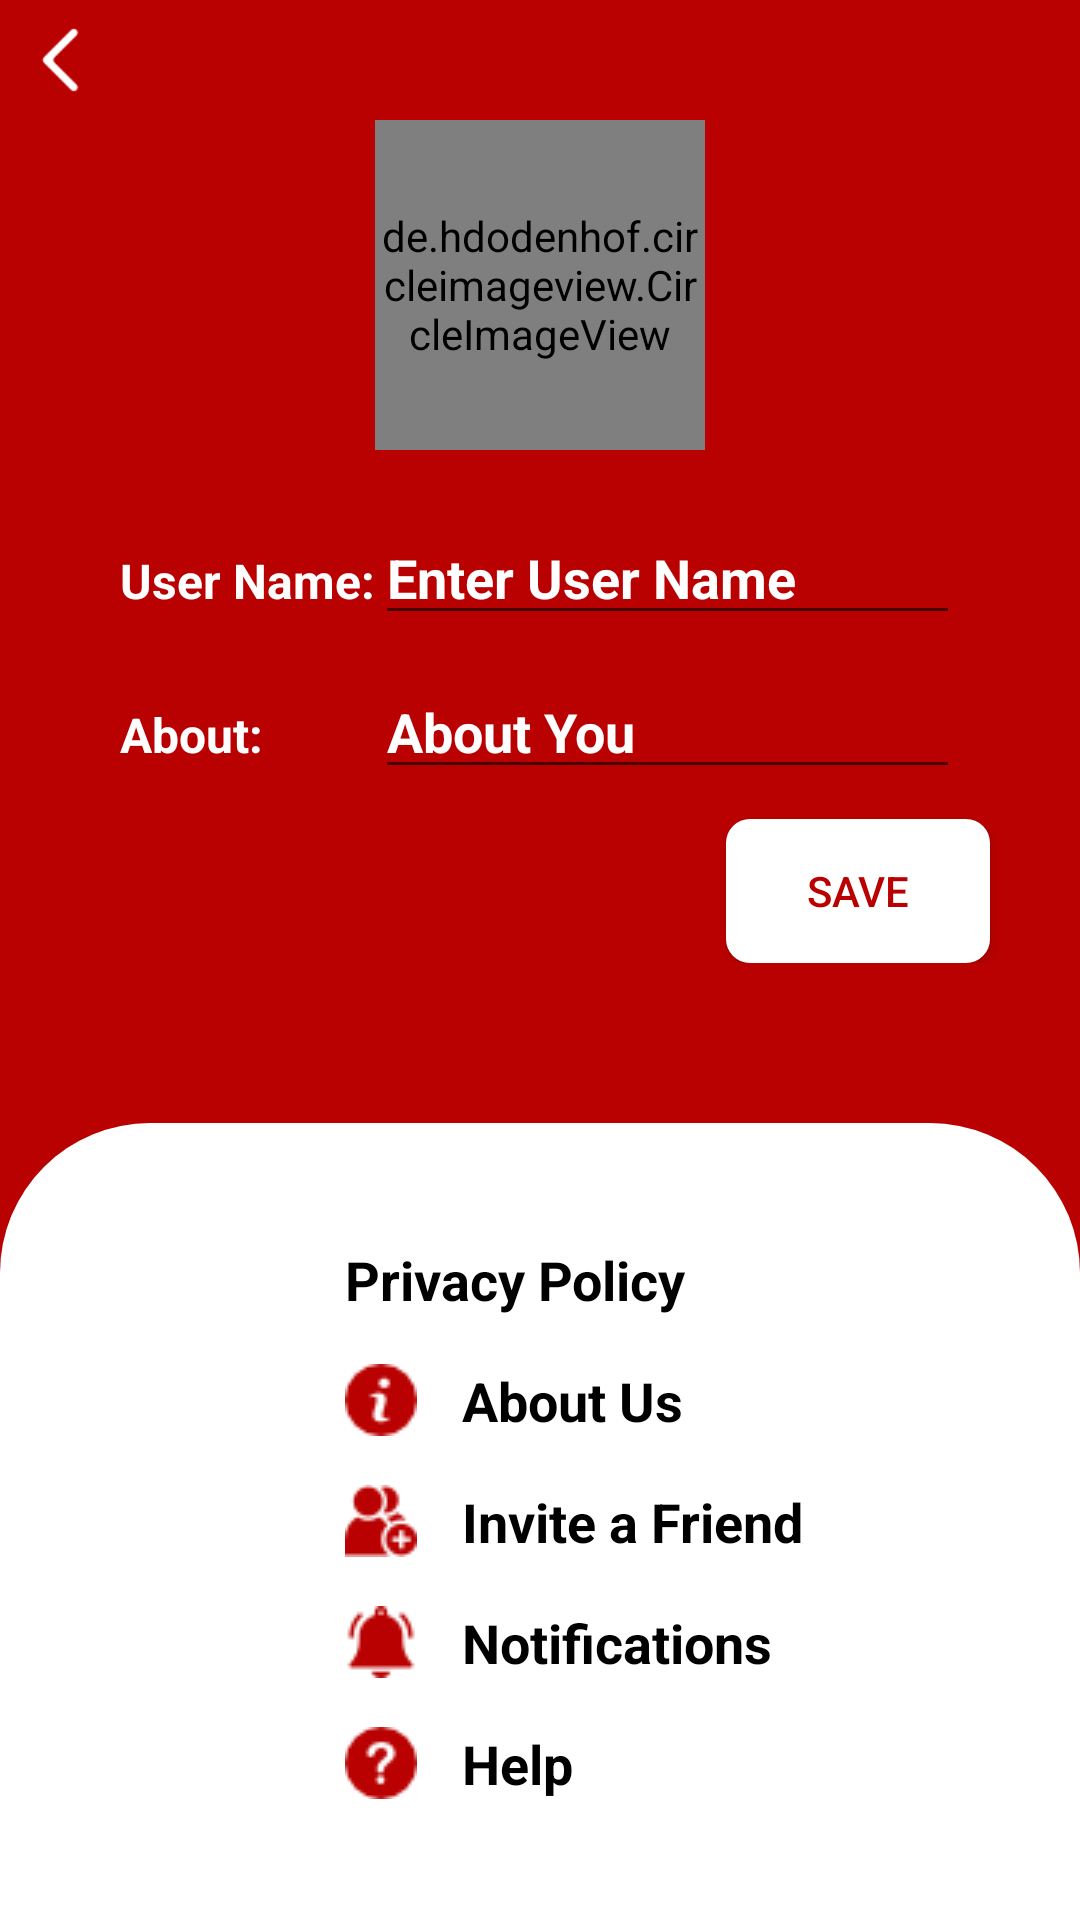

Icons on this 1080*1920 Android screen, each with the point to tap as (x,y):
arrow: (60,60)
